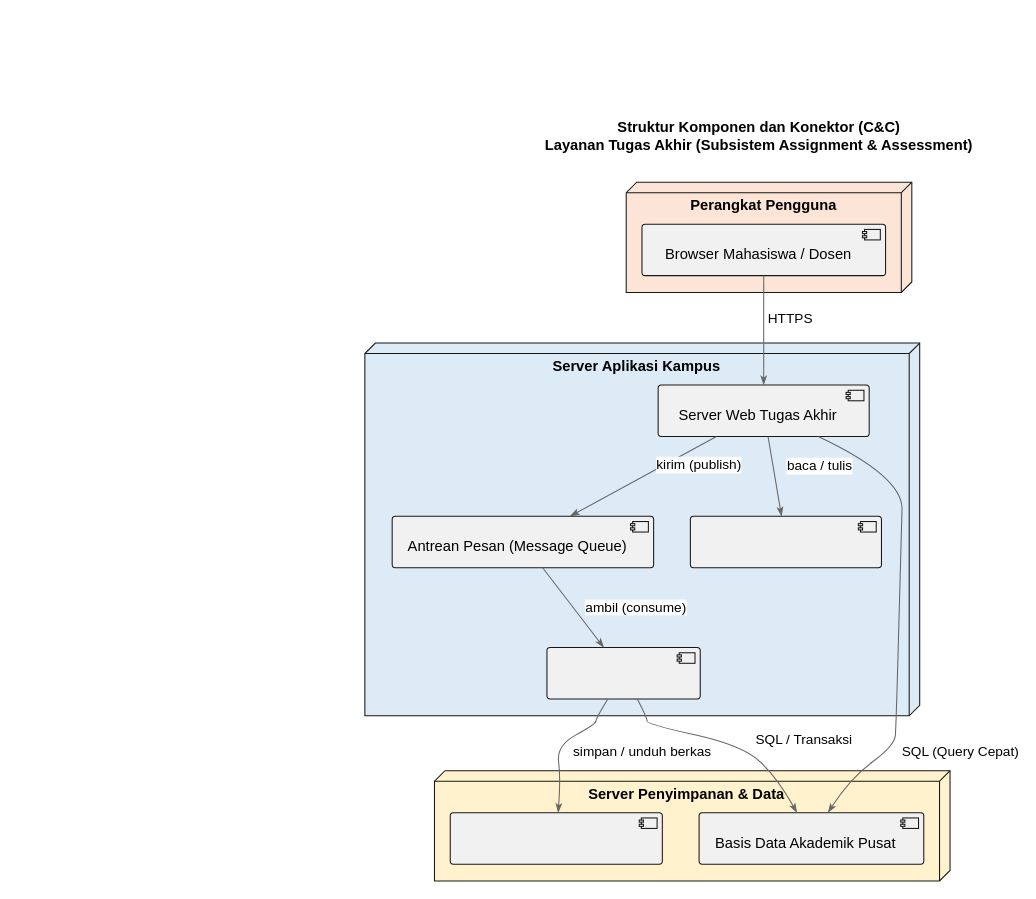
The diagram is 1036 pixels wide and 899 high, and some of its shapes have lost their labels. The centre of each missing label's shape, as x and y in pixels:
Cache Kuota & Jadwal: (x=785, y=541)
Cloud Object Storage (Berkas Draf & Dokumen): (x=555, y=838)
Worker Service: (x=623, y=672)
